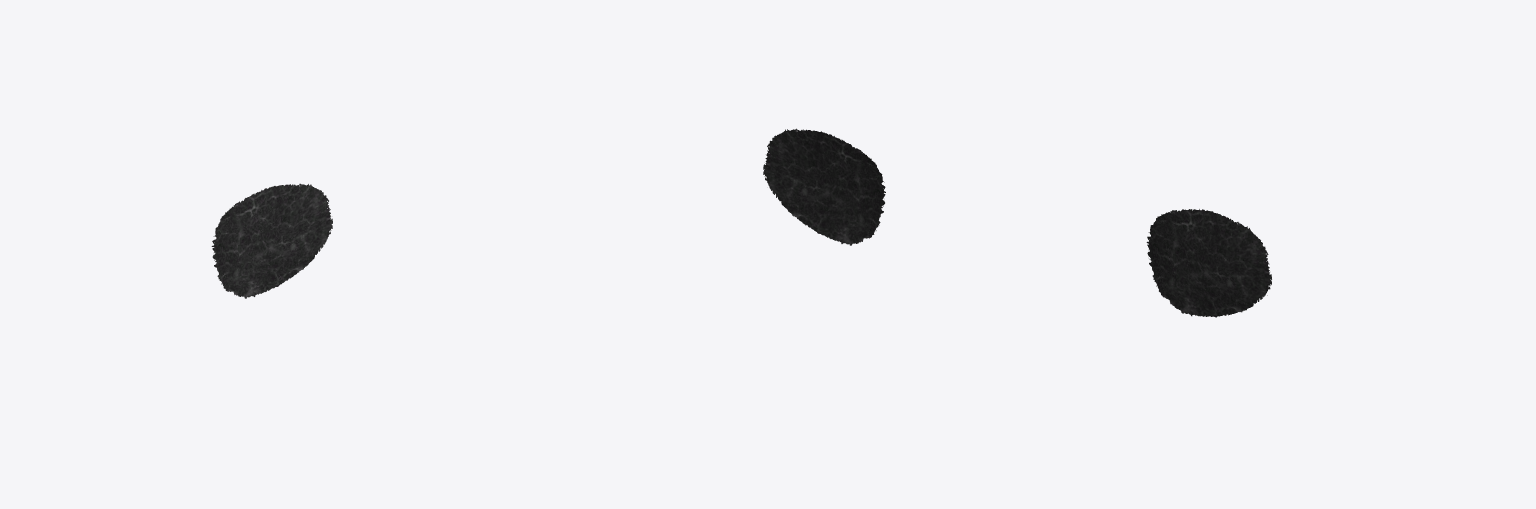
Rendered from cobwebs_02.dae.
3 renders of one model, left to right at view 1: azimuth 30°, elevation 25°; view 2: azimuth 150°, elevation 25°; view 3: azimuth 330°, elevation 25°, orthographic. The views are drawn at different scales.
Parts seen in each view (by area): view 1: cobweb_2; view 2: cobweb_2; view 3: cobweb_2.
Part boxes in pixels (left/top/right/bottom): cobweb_2: left=211, top=183, right=332, bottom=298; cobweb_2: left=763, top=128, right=885, bottom=245; cobweb_2: left=1146, top=209, right=1271, bottom=317.
Bounding box in the file's own units: 0.9263 × 0.7986 × 0.1454.
